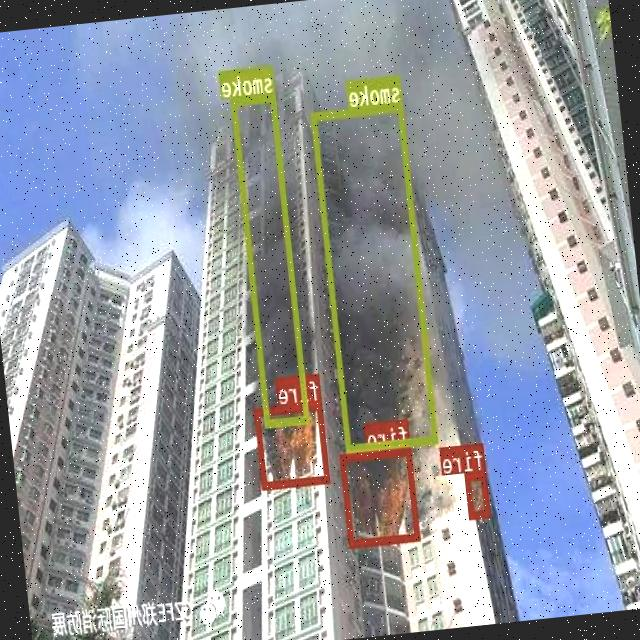fire: (341, 446, 422, 546), (254, 400, 330, 488), (464, 470, 490, 518)
smoke: (312, 101, 438, 450), (232, 92, 311, 426)
